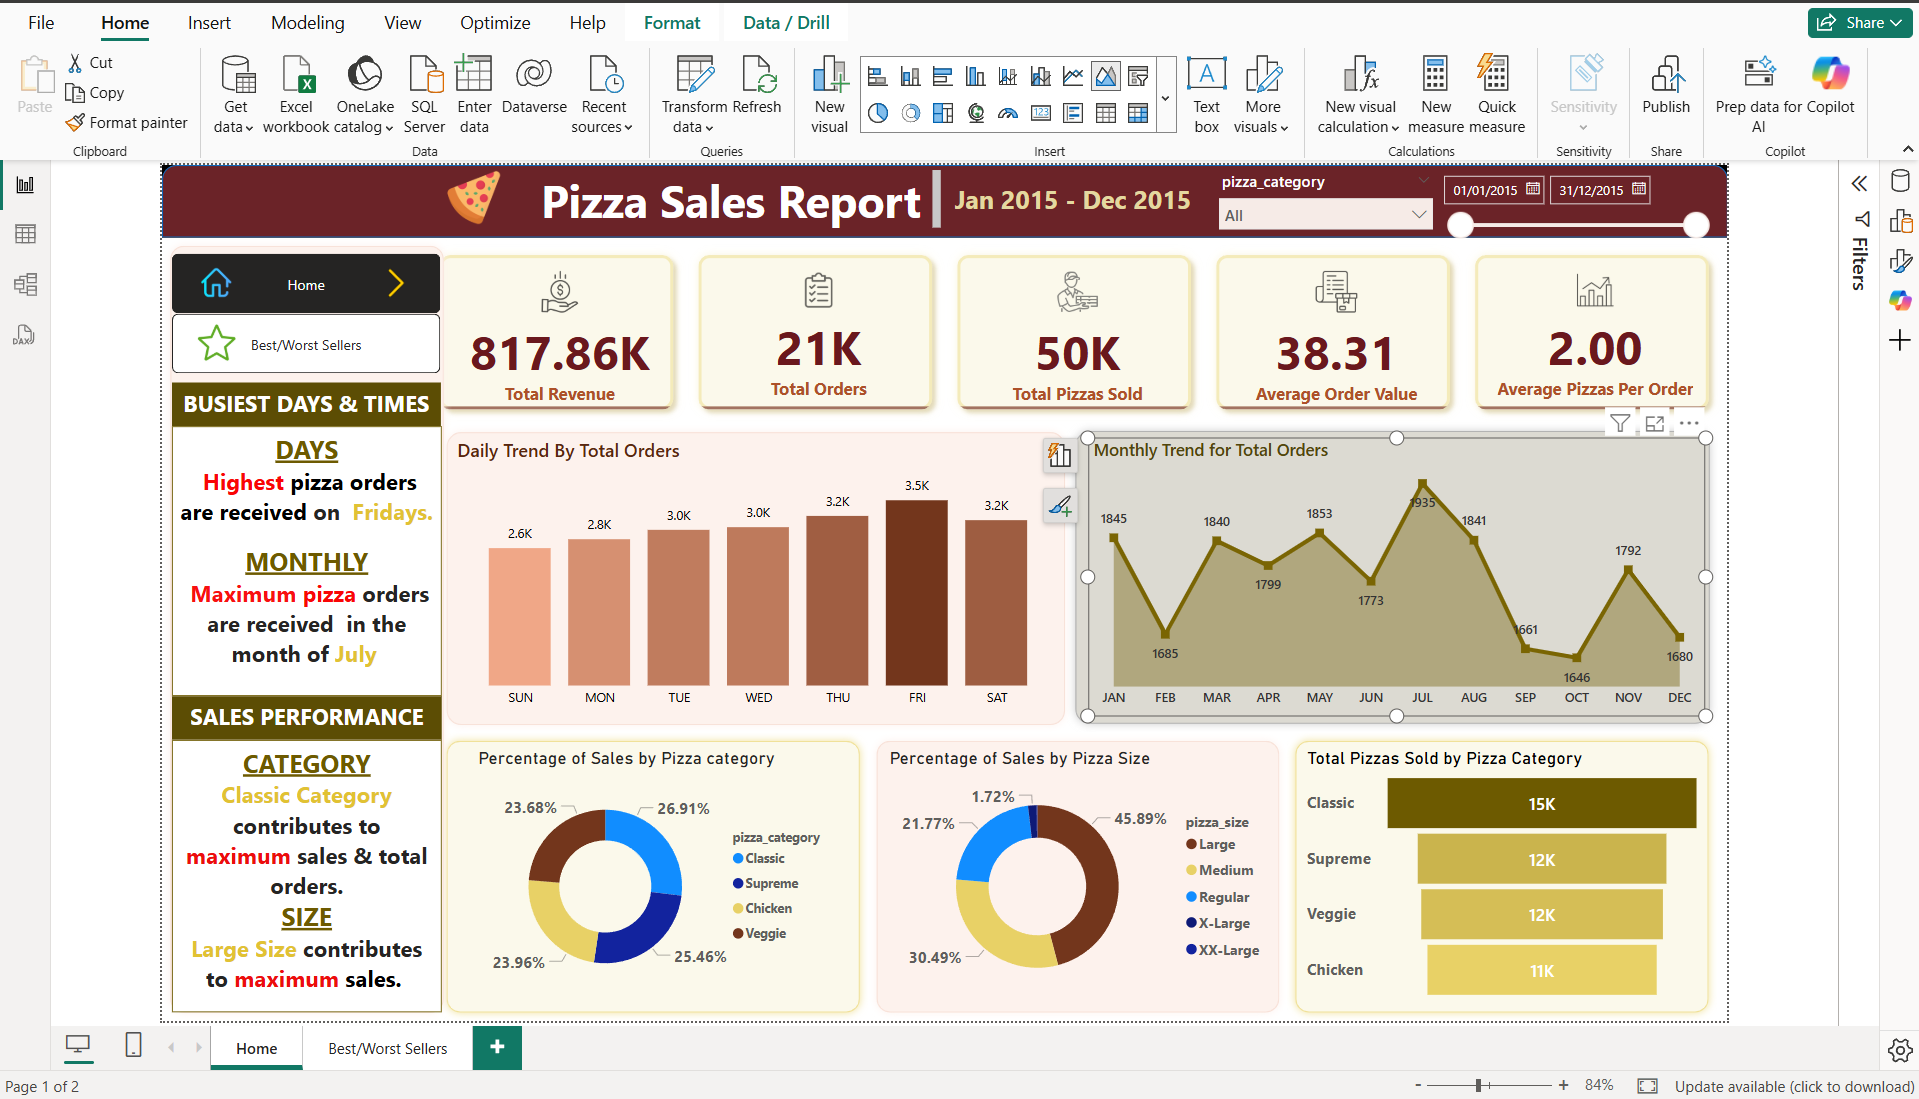

This screenshot's page, from the dashboard's own definition file:
{"tool":"powerbi","page":{"name":"Home","canvas":[1500,820],"ordinal":0},"visuals":[{"type":"cardVisual","fields":{"Data":["pizza_sales.Total Revenue","pizza_sales.Total Orders","pizza_sales.Total Pizzas Sold","pizza_sales.Average Order Value","pizza_sales.Average Pizzas Per Order"]},"box":[249.2,69.5,1250.8,182],"z":0},{"type":"shape","box":[0,0,1500,69.5],"z":1000},{"type":"textbox","box":[357.6,0,393.2,66.1],"z":2000},{"type":"textbox","box":[744.1,11.9,257.6,47.5],"z":3000},{"type":"image","box":[254.2,0,89.8,62.7],"z":4000},{"type":"shape","box":[264.4,247.5,608.5,296.6],"z":5000},{"type":"clusteredColumnChart","title":"Daily Trend By Total Orders","fields":{"Y":["pizza_sales.Total Orders"],"Category":["pizza_sales.Order Day"]},"box":[278,261,588.1,267.8],"z":6000},{"type":"shape","box":[866.7,246.7,623.7,296.6],"z":7000,"group":"g1"},{"type":"shape","box":[264.4,544.1,411.9,276.3],"z":7000},{"type":"areaChart","title":"Monthly Trend for Total Orders","fields":{"Category":["pizza_sales.Order Month"],"Y":["pizza_sales.Total Orders"]},"box":[887.6,260.7,591.5,267.8],"z":8000,"group":"g1"},{"type":"group","id":"g1","title":"Group 1","box":[866.7,246.7,623.7,296.6],"z":8000},{"type":"shape","box":[1078,544.1,411.9,276.3],"z":9000},{"type":"shape","box":[676.3,544.1,401.7,276.3],"z":10000},{"type":"donutChart","title":"Percentage of Sales by Pizza category","fields":{"Category":["pizza_sales.pizza_category"],"Y":["pizza_sales.Total Revenue"]},"box":[298.3,557.6,359.3,247.5],"z":11000},{"type":"donutChart","title":"Percentage of Sales by Pizza Size","fields":{"Category":["pizza_sales.pizza_size"],"Y":["pizza_sales.Total Revenue"]},"box":[691.5,557.6,376.3,247.5],"z":12000},{"type":"funnel","title":"Total Pizzas Sold by Pizza Category","fields":{"Y":["pizza_sales.Total Pizzas Sold"],"Category":["pizza_sales.pizza_category"]},"box":[1091.5,557.6,388.1,247.5],"z":13000},{"type":"shape","box":[0,69.5,278,750.8],"z":14000},{"type":"textbox","box":[10.2,208.5,257.6,42.4],"z":15000},{"type":"textbox","box":[9.6,250.3,258.6,258.6],"z":16000},{"type":"textbox","box":[9.6,508.9,258.6,41.9],"z":17000},{"type":"textbox","box":[9.6,550.8,258.6,261],"z":18000},{"type":"slicer","fields":{"Values":["pizza_sales.pizza_category"]},"box":[1001.7,0,225.4,66.1],"z":19000},{"type":"slicer","fields":{"Values":["pizza_sales.order_date"]},"box":[1214.9,0,275.3,84.3],"z":20000},{"type":"pageNavigator","box":[10.2,84.7,257.6,57.6],"z":21000},{"type":"pageNavigator","box":[10.2,142.4,257.6,57.6],"z":22000},{"type":"image","box":[184.7,94.9,79.7,37.3],"z":23000},{"type":"image","box":[10.2,93.2,84.7,39],"z":24000},{"type":"image","box":[5.1,147.5,94.9,45.8],"z":25000}]}

Visuals, with their boxes on the page's 1500x820 design canvas (x1, y1, x2, y2). These are canvas units, not pixel positions in the 1919x1099 screenshot, which may show the page scaled, cropped or inside an application window:
cardVisual - pizza_sales.Total Revenue x pizza_sales.Total Orders: bbox(249, 70, 1500, 252)
shape: bbox(0, 0, 1500, 70)
textbox: bbox(358, 0, 751, 66)
textbox: bbox(744, 12, 1002, 59)
image: bbox(254, 0, 344, 63)
shape: bbox(264, 248, 873, 544)
"Daily Trend By Total Orders" clusteredColumnChart: bbox(278, 261, 866, 529)
shape: bbox(867, 247, 1490, 543)
shape: bbox(264, 544, 676, 820)
"Monthly Trend for Total Orders" areaChart: bbox(888, 261, 1479, 528)
"Group 1" group: bbox(867, 247, 1490, 543)
shape: bbox(1078, 544, 1490, 820)
shape: bbox(676, 544, 1078, 820)
"Percentage of Sales by Pizza category" donutChart: bbox(298, 558, 658, 805)
"Percentage of Sales by Pizza Size" donutChart: bbox(692, 558, 1068, 805)
"Total Pizzas Sold by Pizza Category" funnel: bbox(1092, 558, 1480, 805)
shape: bbox(0, 70, 278, 820)
textbox: bbox(10, 208, 268, 251)
textbox: bbox(10, 250, 268, 509)
textbox: bbox(10, 509, 268, 551)
textbox: bbox(10, 551, 268, 812)
slicer - pizza_sales.pizza_category: bbox(1002, 0, 1227, 66)
slicer - pizza_sales.order_date: bbox(1215, 0, 1490, 84)
pageNavigator: bbox(10, 85, 268, 142)
pageNavigator: bbox(10, 142, 268, 200)
image: bbox(185, 95, 264, 132)
image: bbox(10, 93, 95, 132)
image: bbox(5, 148, 100, 193)
